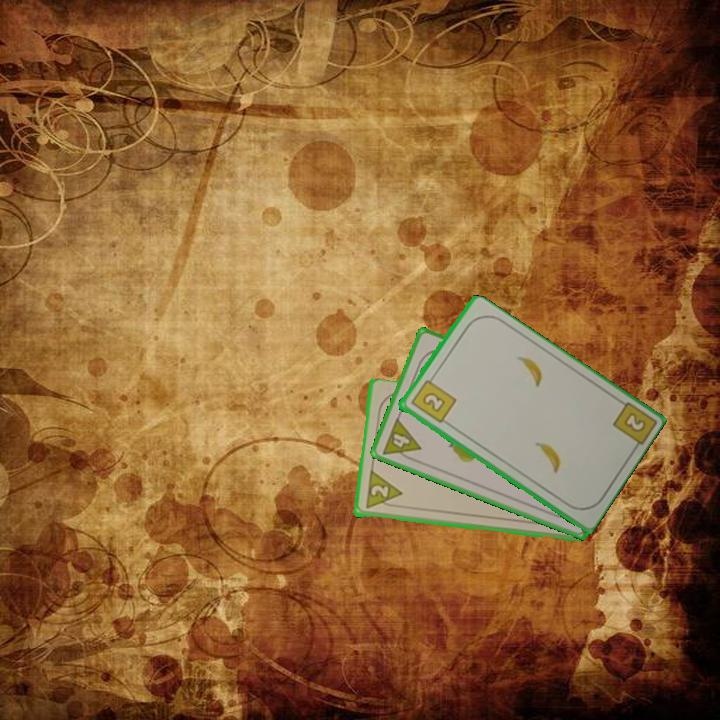2b: (407, 372, 459, 426), (619, 409, 649, 436)
2p: (362, 469, 404, 512)
4p: (378, 414, 424, 465)
